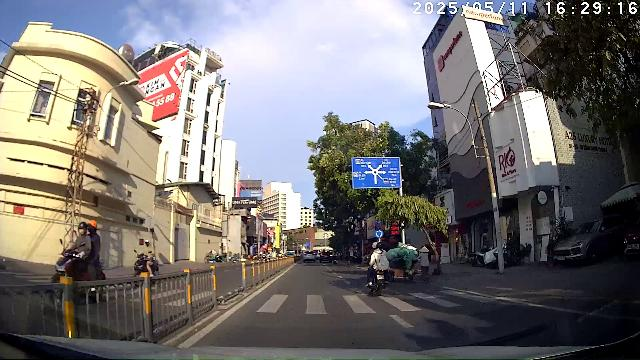303-noi-giao-nhau-chay-theo-vong-xuyen: (374, 229, 384, 238)
